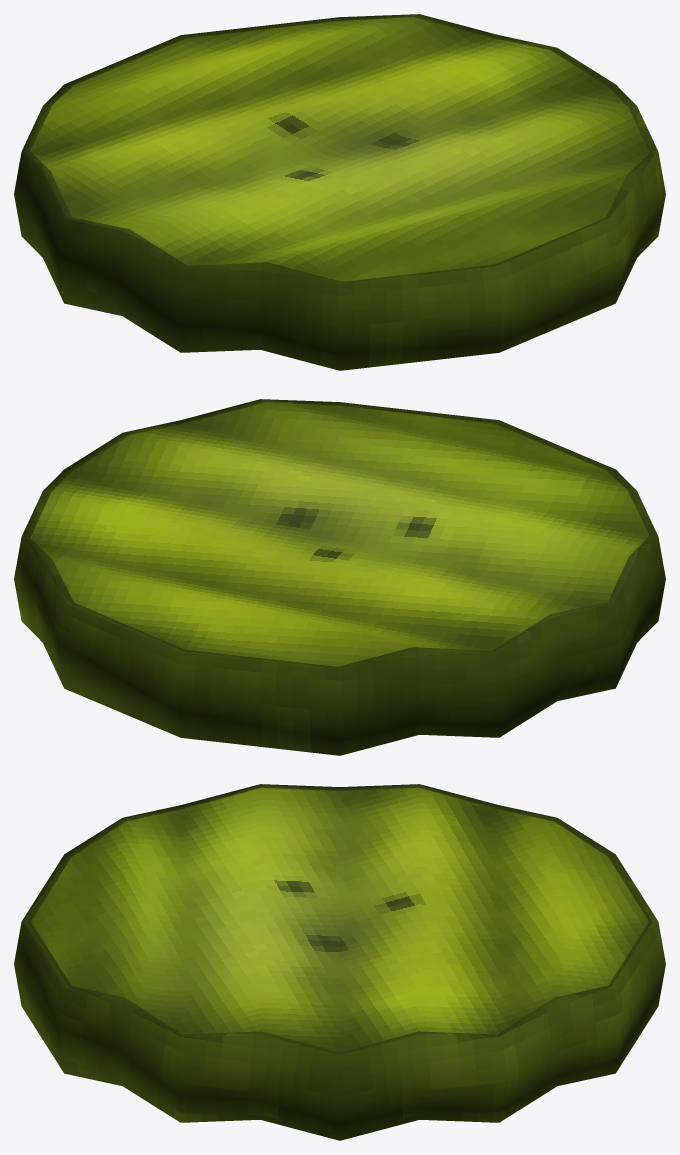
The model's file is pickle.glb.
3 renders of one model, top to bottom at view 1: azimuth 30°, elevation 25°; view 2: azimuth 150°, elevation 25°; view 3: azimuth 270°, elevation 25°, orthographic.
Parts seen in each view (by area): view 1: Cylinder.003; view 2: Cylinder.003; view 3: Cylinder.003.
Boxes of the visible parts, <box> form: Cylinder.003: <box>14,14,665,370</box>; Cylinder.003: <box>14,399,665,755</box>; Cylinder.003: <box>14,784,665,1140</box>.
Size of what is drawn, in the model's own units: 0.5105 by 0.0836 by 0.5105.
1 material, 1 textured.
